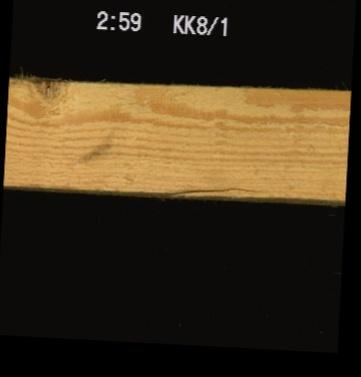edge_knot: (28, 79, 65, 109)
split: (164, 184, 264, 198)
